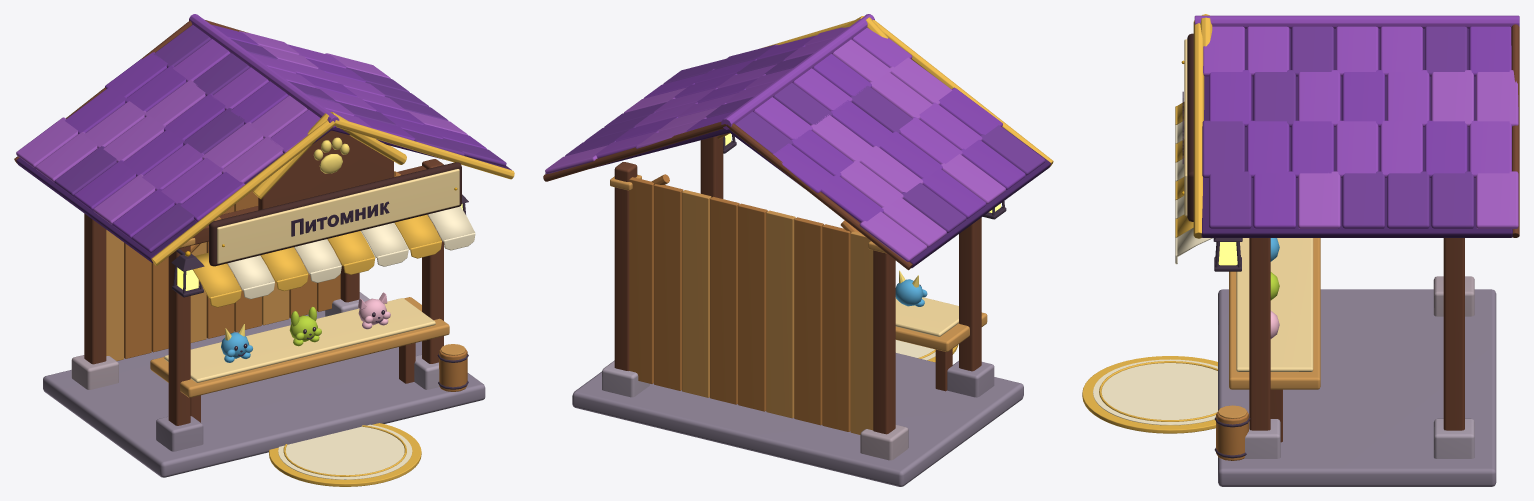
The model's file is Pavilion_Pets.glb.
3 views of the same model, side by side, from view 1: azimuth 30°, elevation 25°; view 2: azimuth 150°, elevation 25°; view 3: azimuth 270°, elevation 25° (orthographic). The views are drawn at different scales.
Visible parts, largest first — view 1: Pavilion_Pets__Roof, Pavilion_Pets__Structure, Pavilion_Pets__DisplayProps, Pavilion_Pets__Awning, Pavilion_Pets__SignFrame, Pavilion_Pets__Marker, Pavilion_Pets__SignText, Pavilion_Pets__Fixtures, Pavilion_Pets__Emblem; view 2: Pavilion_Pets__Structure, Pavilion_Pets__Roof, Pavilion_Pets__DisplayProps, Pavilion_Pets__Marker; view 3: Pavilion_Pets__Roof, Pavilion_Pets__Structure, Pavilion_Pets__DisplayProps, Pavilion_Pets__Marker, Pavilion_Pets__Awning, Pavilion_Pets__SignFrame, Pavilion_Pets__Fixtures.
Boxes of the visible parts, left/top/right/bottom form: Pavilion_Pets__Roof: left=14, top=14, right=514, bottom=265; Pavilion_Pets__Structure: left=43, top=159, right=485, bottom=477; Pavilion_Pets__DisplayProps: left=150, top=292, right=468, bottom=422; Pavilion_Pets__Awning: left=193, top=206, right=475, bottom=307; Pavilion_Pets__SignFrame: left=209, top=162, right=461, bottom=266; Pavilion_Pets__Marker: left=269, top=423, right=421, bottom=486; Pavilion_Pets__SignText: left=291, top=201, right=389, bottom=236; Pavilion_Pets__Fixtures: left=171, top=194, right=468, bottom=297; Pavilion_Pets__Emblem: left=313, top=137, right=349, bottom=173; Pavilion_Pets__Structure: left=572, top=133, right=1023, bottom=486; Pavilion_Pets__Roof: left=543, top=14, right=1053, bottom=270; Pavilion_Pets__DisplayProps: left=895, top=270, right=987, bottom=391; Pavilion_Pets__Marker: left=895, top=340, right=958, bottom=362; Pavilion_Pets__Roof: left=1193, top=14, right=1519, bottom=238; Pavilion_Pets__Structure: left=1218, top=238, right=1496, bottom=486; Pavilion_Pets__DisplayProps: left=1214, top=238, right=1320, bottom=460; Pavilion_Pets__Marker: left=1082, top=356, right=1217, bottom=433; Pavilion_Pets__Awning: left=1175, top=102, right=1212, bottom=264; Pavilion_Pets__SignFrame: left=1181, top=33, right=1193, bottom=221; Pavilion_Pets__Fixtures: left=1213, top=238, right=1242, bottom=271.
Bounding box in the file's own units: 13.14 × 11.49 × 11.93.
